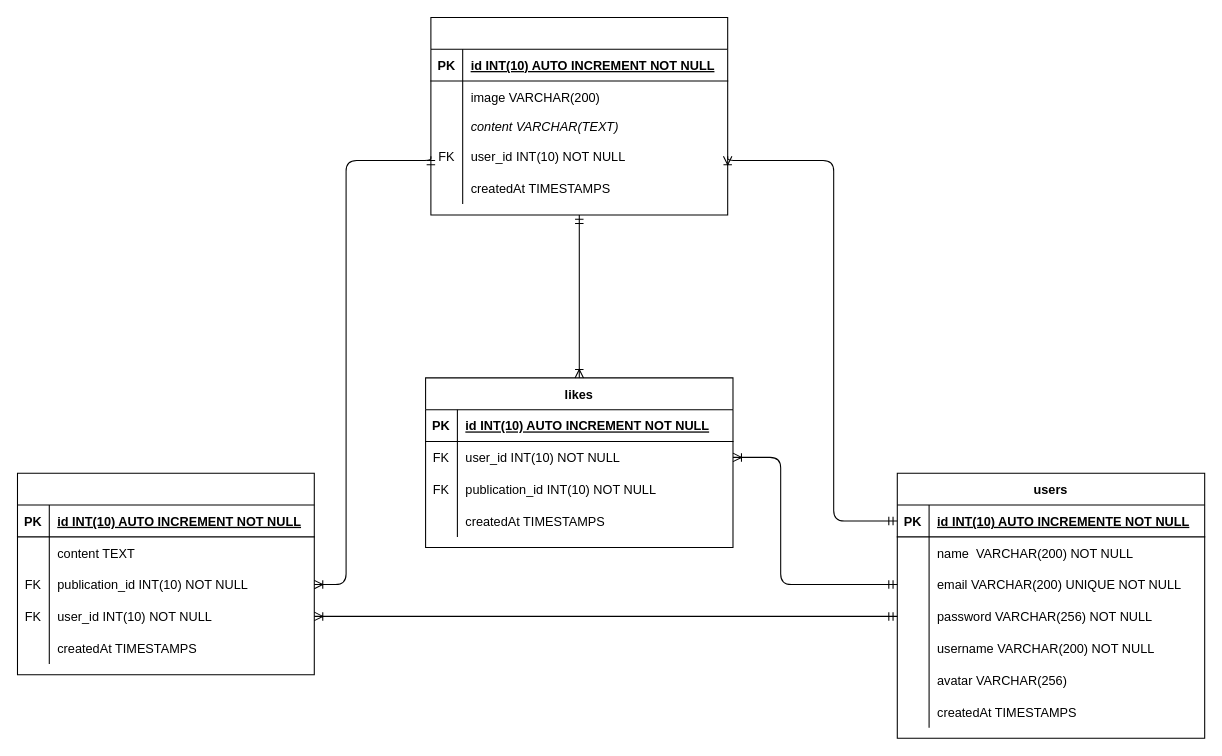
This 1222x756 diagram has some shape labels left out. The box of each missing label's shape, as (x1, y1, x2, y2) in pixels:
comments: (16, 472, 314, 675)
publications: (430, 16, 728, 215)
